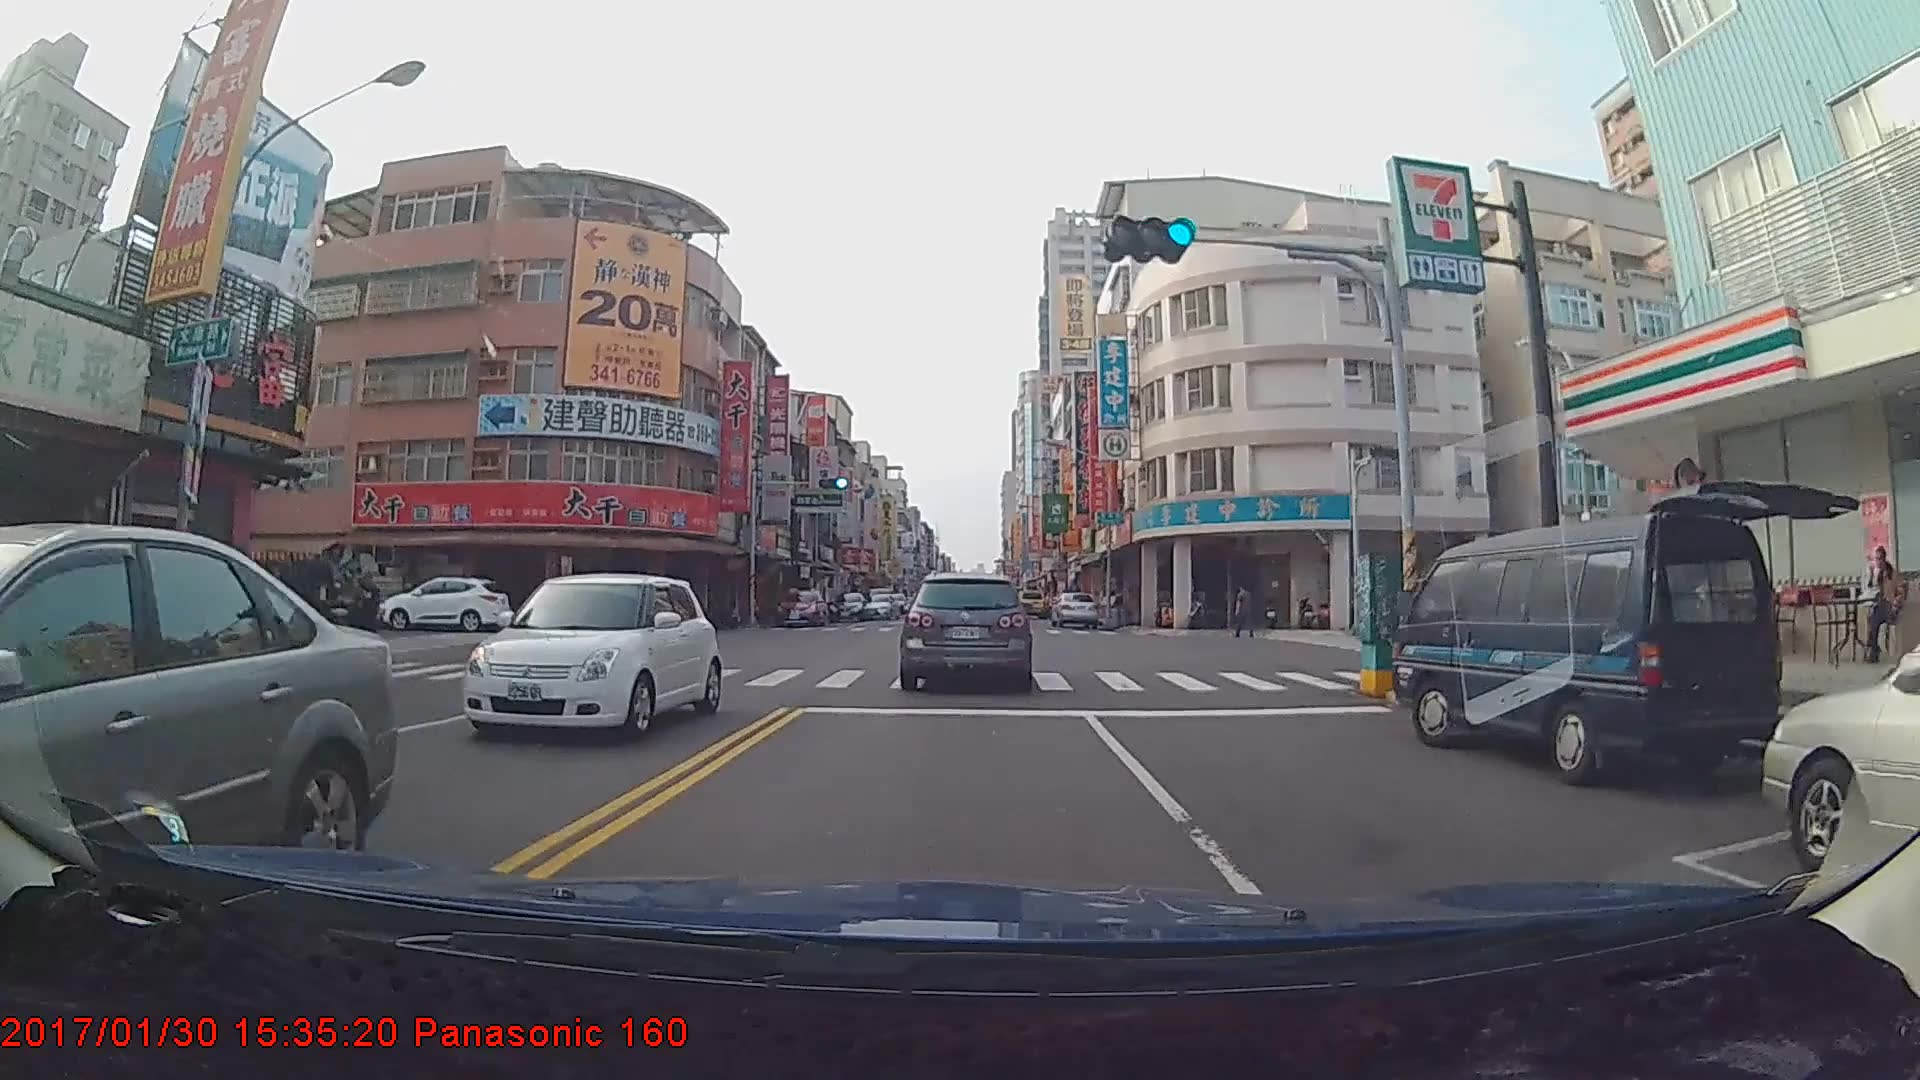pedestrian: (353, 582, 382, 667), (1235, 584, 1256, 640)
vehicle: (0, 519, 396, 926), (1389, 509, 1785, 787), (1760, 579, 1920, 921), (460, 565, 721, 742), (902, 569, 1030, 689), (380, 574, 510, 631), (1049, 589, 1100, 630), (774, 587, 824, 627), (830, 590, 869, 619), (1011, 582, 1045, 615), (862, 591, 899, 619)
